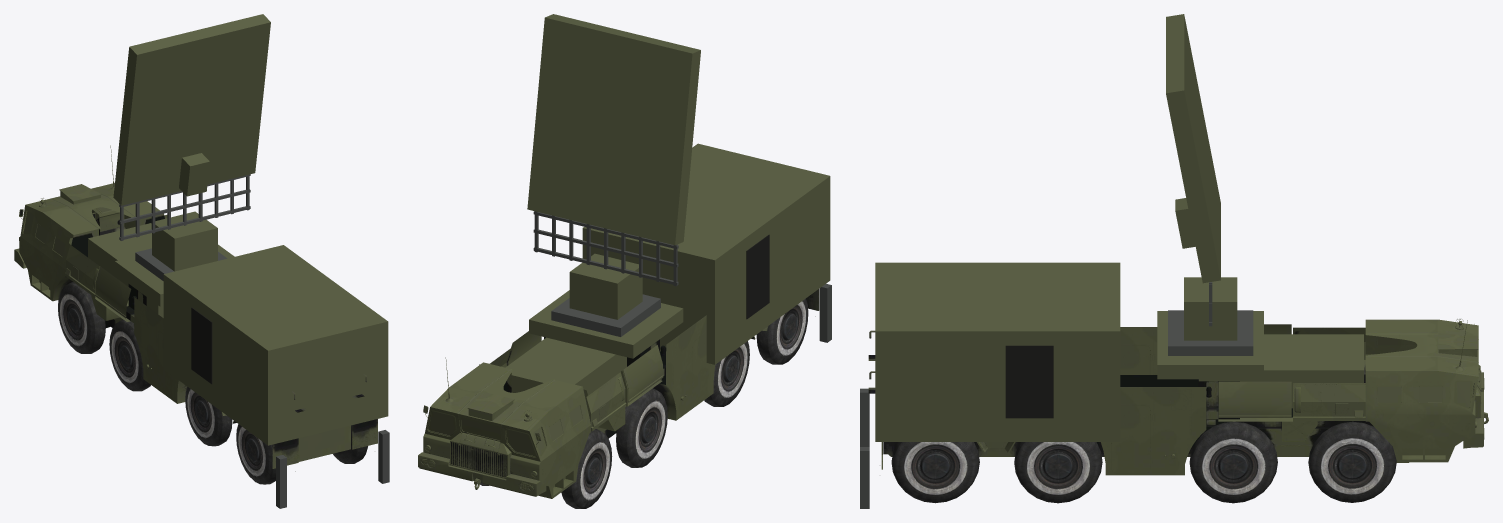
Rendered from radar_96l6e.glb.
The picture shows the model from 3 angles, left to right: view 1: azimuth 30°, elevation 25°; view 2: azimuth 150°, elevation 25°; view 3: azimuth 270°, elevation 25°; orthographic projection. The views are drawn at different scales.
Visible parts, largest first — view 1: radar_96l6e, antenna; view 2: radar_96l6e, antenna; view 3: radar_96l6e, antenna.
Part boxes in pixels (left/top/right/bottom): radar_96l6e: left=14, top=145, right=389, bottom=508; antenna: left=113, top=14, right=270, bottom=271; radar_96l6e: left=418, top=143, right=831, bottom=508; antenna: left=527, top=14, right=700, bottom=319; radar_96l6e: left=860, top=262, right=1488, bottom=508; antenna: left=1166, top=14, right=1237, bottom=340.
Bounding box in the file's own units: 3.4 × 8.82 × 11.82.
Materials: 7 (4 with a texture image).
